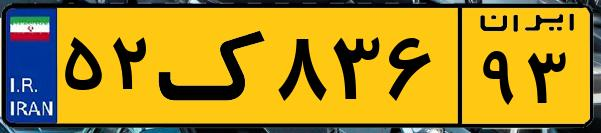2: (110, 28, 158, 98)
3: (330, 28, 385, 110), (525, 38, 570, 115)
5: (57, 26, 110, 100)
6: (385, 28, 445, 110)
8: (270, 28, 330, 110)
9: (475, 38, 525, 113)
ک: (158, 12, 270, 120)
